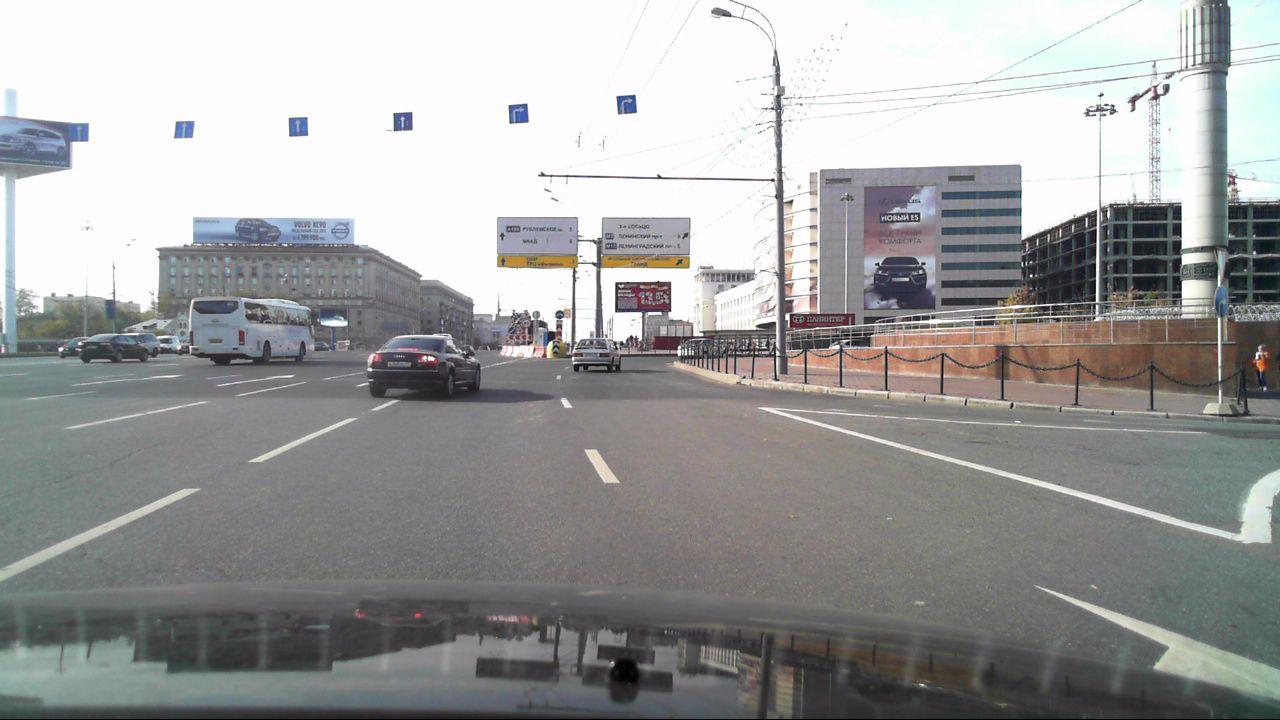4_1_2: (1212, 284, 1231, 315)
5_15_2: (69, 120, 90, 144), (507, 103, 530, 124), (615, 94, 639, 114), (174, 118, 195, 139), (392, 111, 413, 132), (288, 116, 309, 136)
6_10_1: (599, 214, 692, 257), (497, 215, 580, 255)
